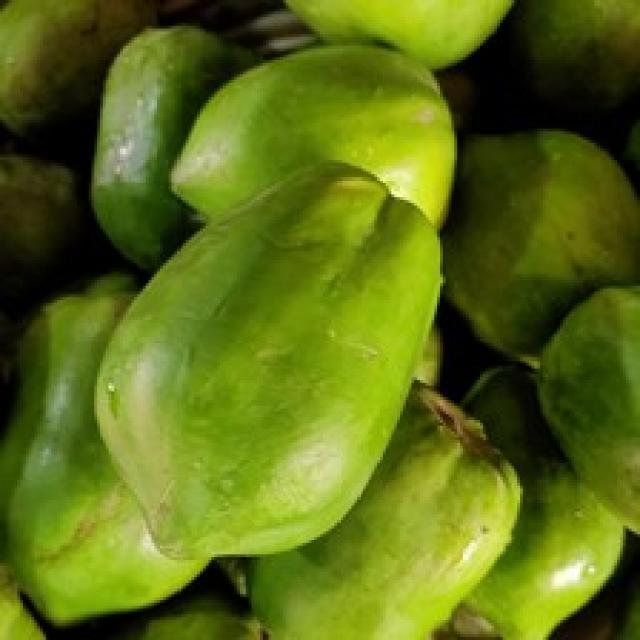Pepaya unrippen: (90, 169, 461, 583)
